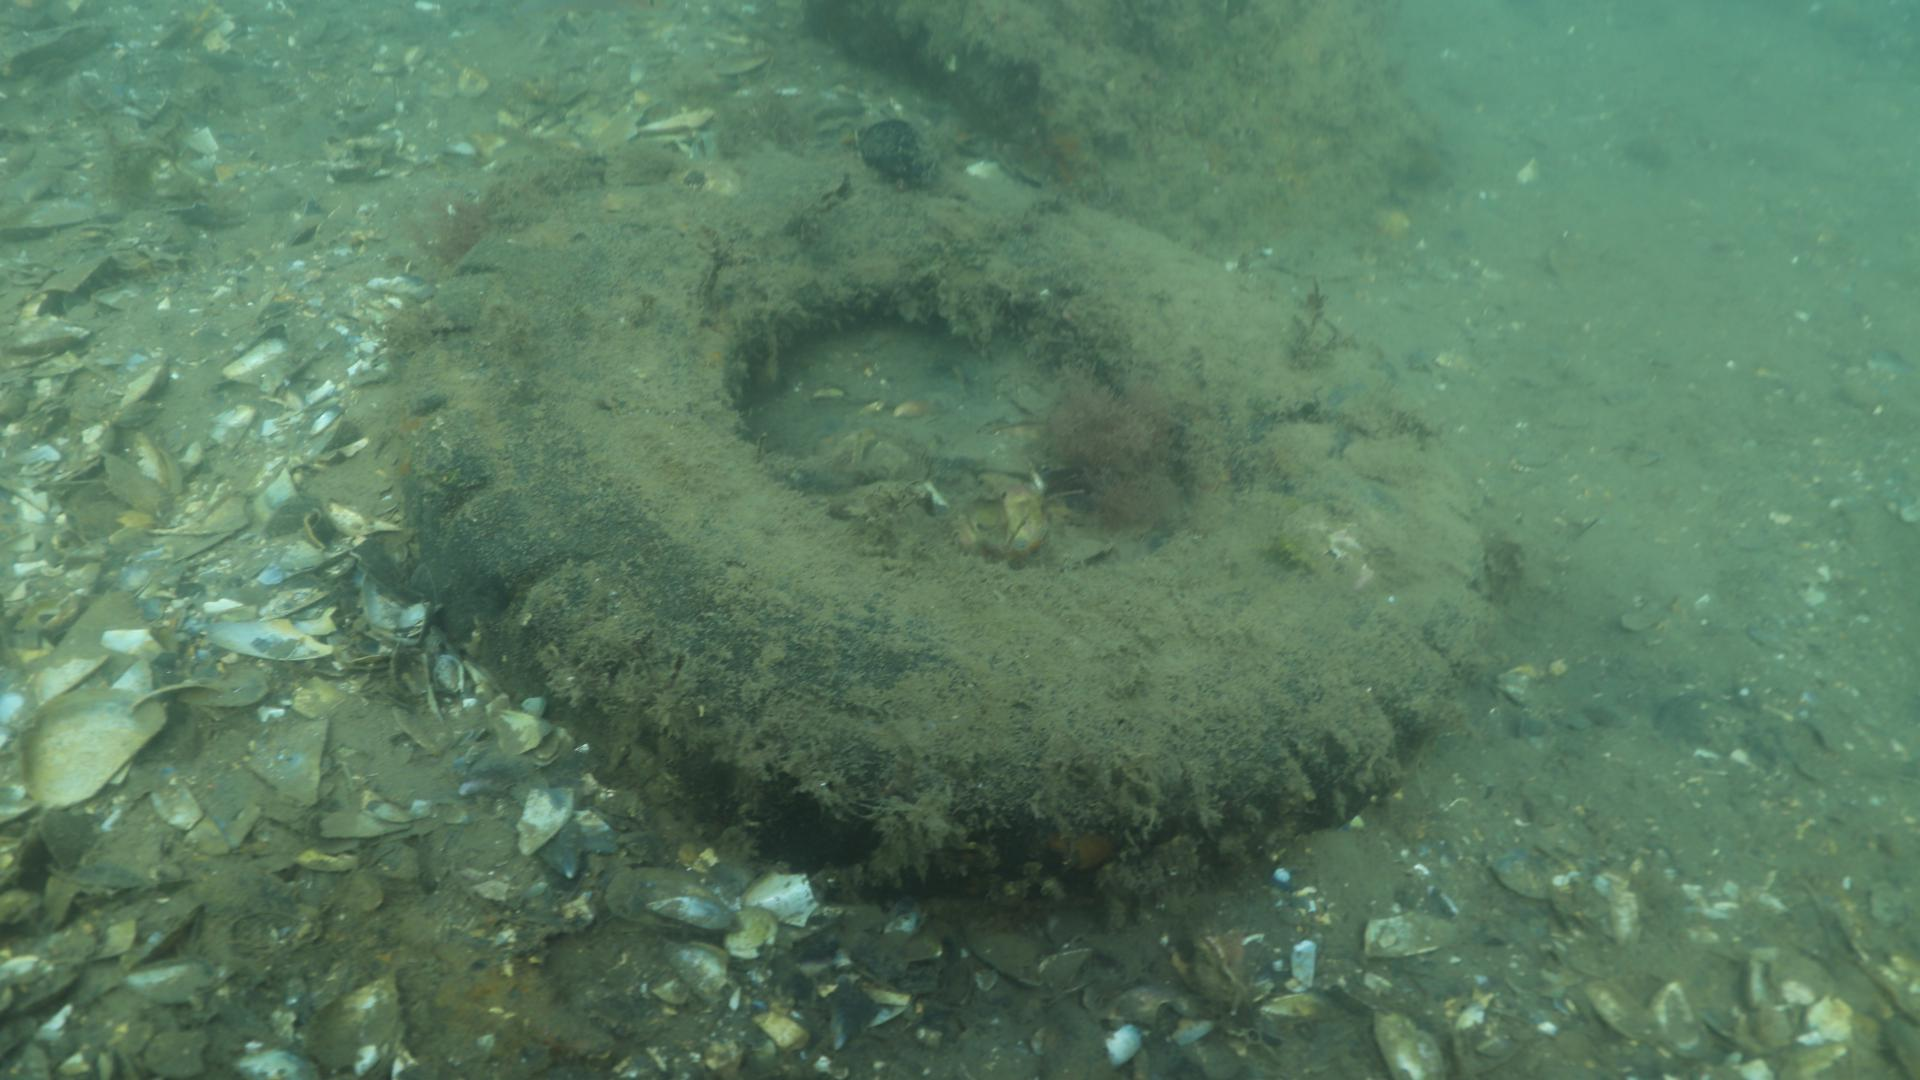tire: (397, 145, 1485, 907)
